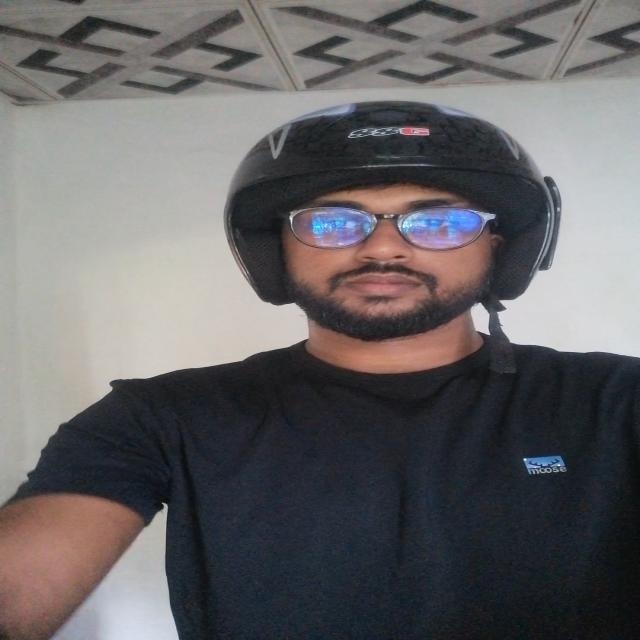Helmet_Wearer: (158, 89, 576, 424)
Person: (1, 97, 639, 640)
